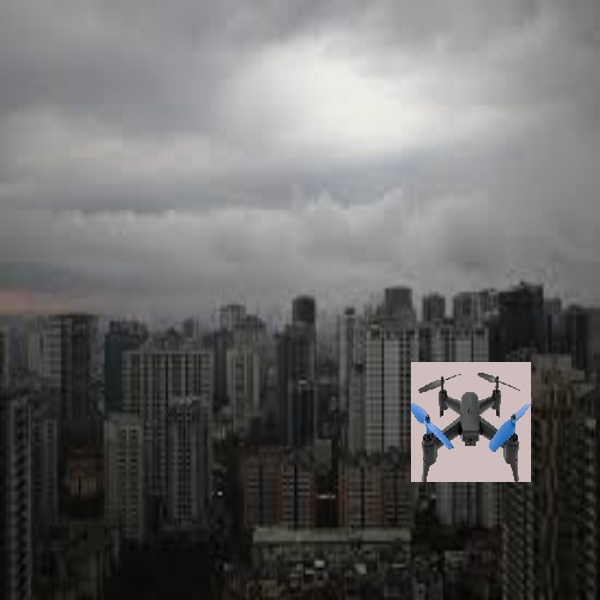drone: (406, 361, 529, 481)
